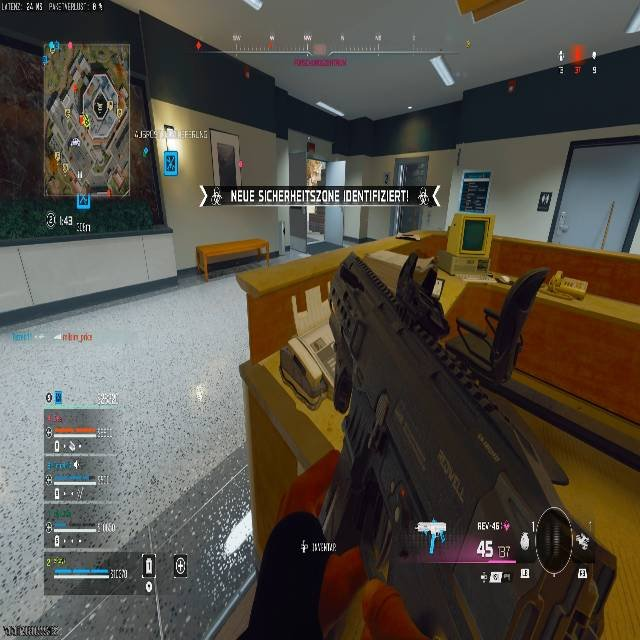player: (383, 172, 390, 183)
